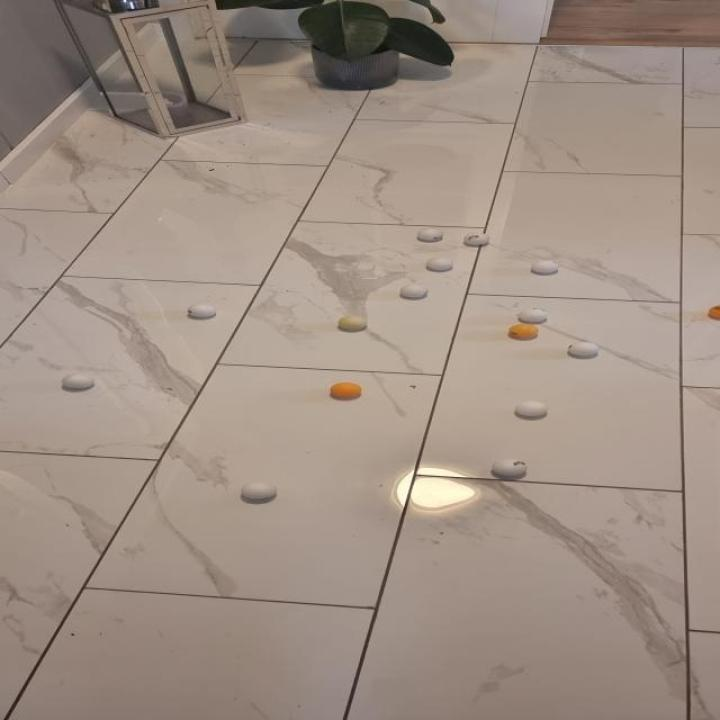orange: (330, 383, 364, 397), (507, 324, 539, 338), (707, 303, 720, 317)
white: (240, 482, 278, 500), (491, 459, 528, 476), (514, 402, 550, 416), (186, 303, 217, 318), (62, 374, 94, 388), (568, 342, 599, 356), (518, 308, 548, 322), (337, 316, 369, 329), (400, 285, 430, 298), (416, 227, 444, 240), (462, 232, 490, 245), (531, 260, 559, 273), (426, 257, 454, 269)
